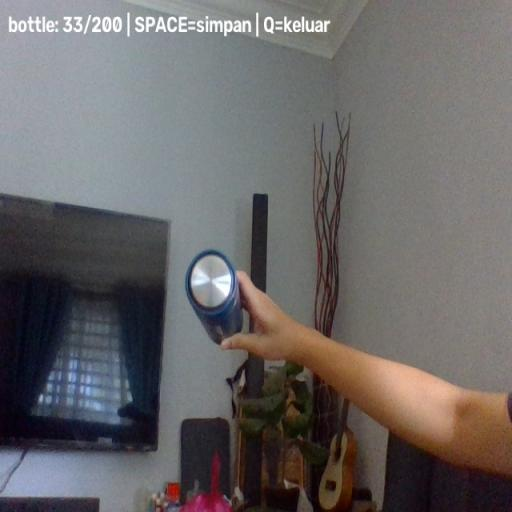Bottle: (184, 250, 244, 346)
